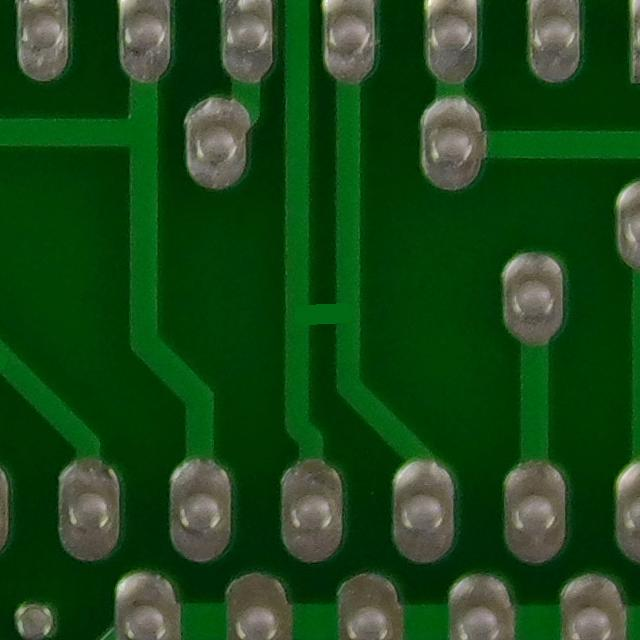short: (272, 287, 368, 353)
